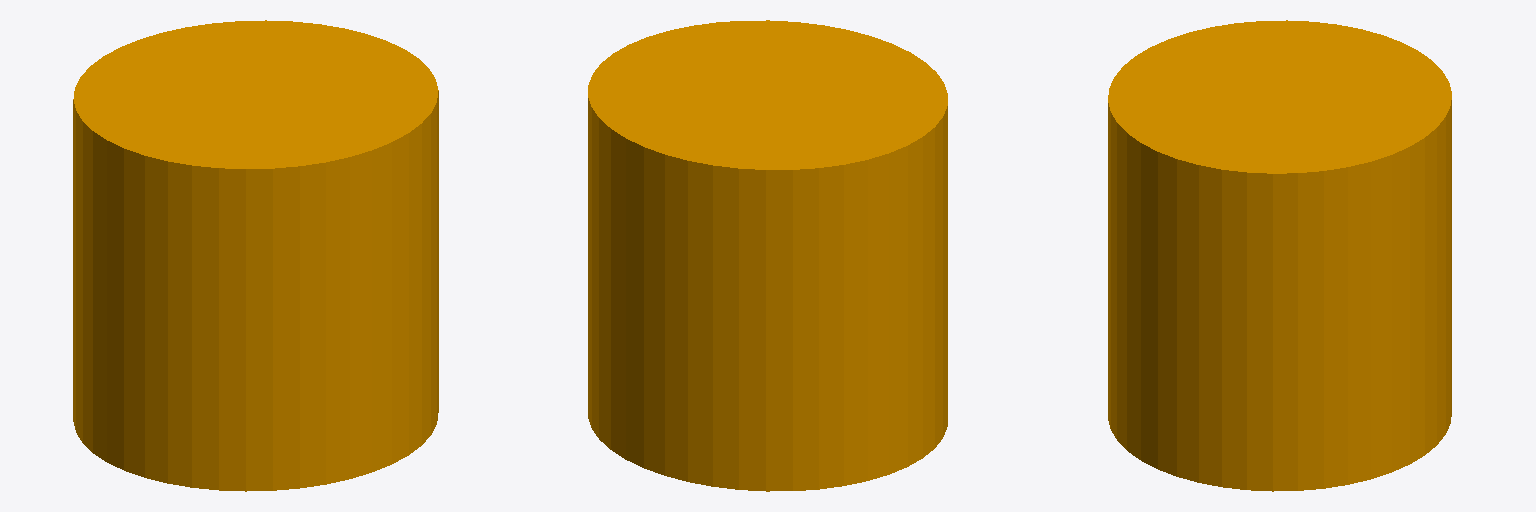
URDF robot description (object):
<?xml version="1.0"?>
<robot name="object">
  <link name="object">
    <visual>
      <origin xyz="0 0 0"/>
      <geometry>
        <mesh filename="meshes/generated/col_042.obj" scale="0.03 0.03 0.03"/>
      </geometry>
    </visual>
    <collision>
      <origin xyz="0 0 0"/>
      <geometry>
        <mesh filename="meshes/generated/col_042.obj" scale="0.03 0.03 0.03"/>
      </geometry>
    </collision>
    <inertial>
      <density value="1000.0"/>
    </inertial>
  </link>
</robot>

--- Facts derived from the render (not from the file) ---
Views: 3 orthographic renders of the robot side by side, from view 1: azimuth 30°, elevation 25°; view 2: azimuth 150°, elevation 25°; view 3: azimuth 270°, elevation 25°.
Model object with 1 links and 0 joints (none), rooted at object, posed all joints at 0.
Visible links, largest first — view 1: object; view 2: object; view 3: object.
Link boxes in pixels (x1,y1,x2,y2): object: [73, 20, 438, 491]; object: [588, 20, 947, 491]; object: [1108, 20, 1451, 491].
Bounding box of the posed robot: 0.0621 × 0.0589 × 0.06 m (x, y, z).
Meshes: 1 distinct files referenced, 1 mesh visuals loaded (1 OBJ).
